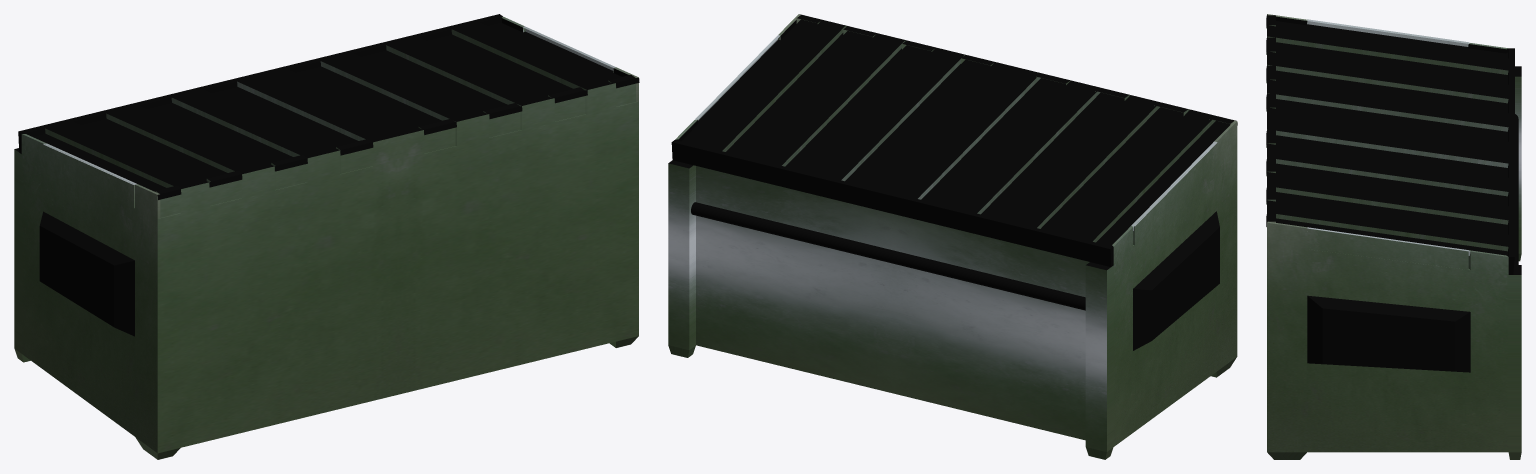
File: Trashcontainersolo.fbx
The picture shows the model from 3 angles, left to right: view 1: azimuth 30°, elevation 25°; view 2: azimuth 150°, elevation 25°; view 3: azimuth 270°, elevation 25°; orthographic projection. The views are drawn at different scales.
Visible parts, largest first — view 1: Trashcontainersolo; view 2: Trashcontainersolo; view 3: Trashcontainersolo.
Boxes of the visible parts, box(x1,y1,x2,y2) form: Trashcontainersolo: box(14, 14, 639, 459); Trashcontainersolo: box(668, 14, 1237, 459); Trashcontainersolo: box(1266, 14, 1521, 459).
Size of the model in its own units: 343 by 174 by 169.
